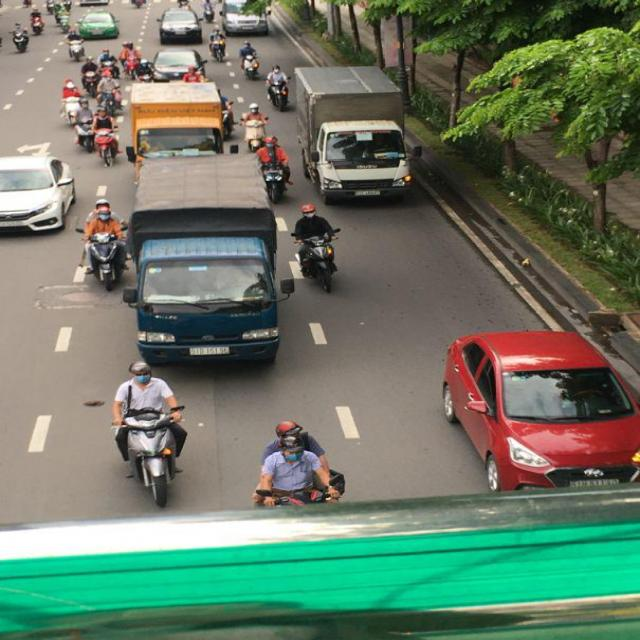car: (441, 328, 640, 491), (0, 150, 80, 236), (158, 9, 202, 45), (151, 50, 199, 82), (77, 12, 120, 40)
motorcycle: (118, 409, 186, 507), (83, 235, 128, 291), (297, 237, 339, 293), (261, 160, 291, 206), (95, 129, 120, 170)
truck: (131, 154, 284, 366), (297, 68, 414, 204), (128, 81, 231, 166)
